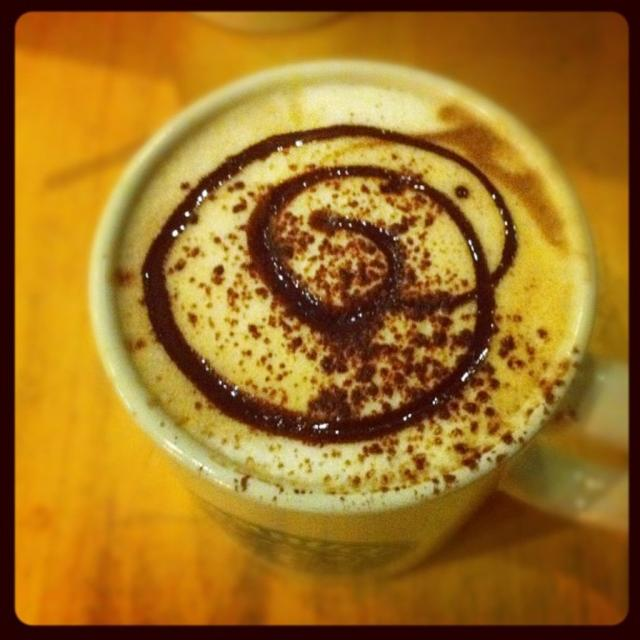Coffee: (125, 49, 593, 397)
